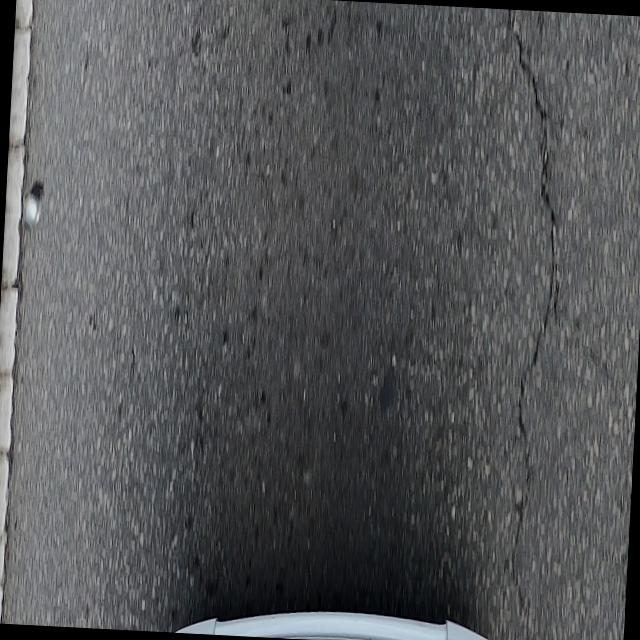Retak-Memanjang: (504, 9, 561, 619)
